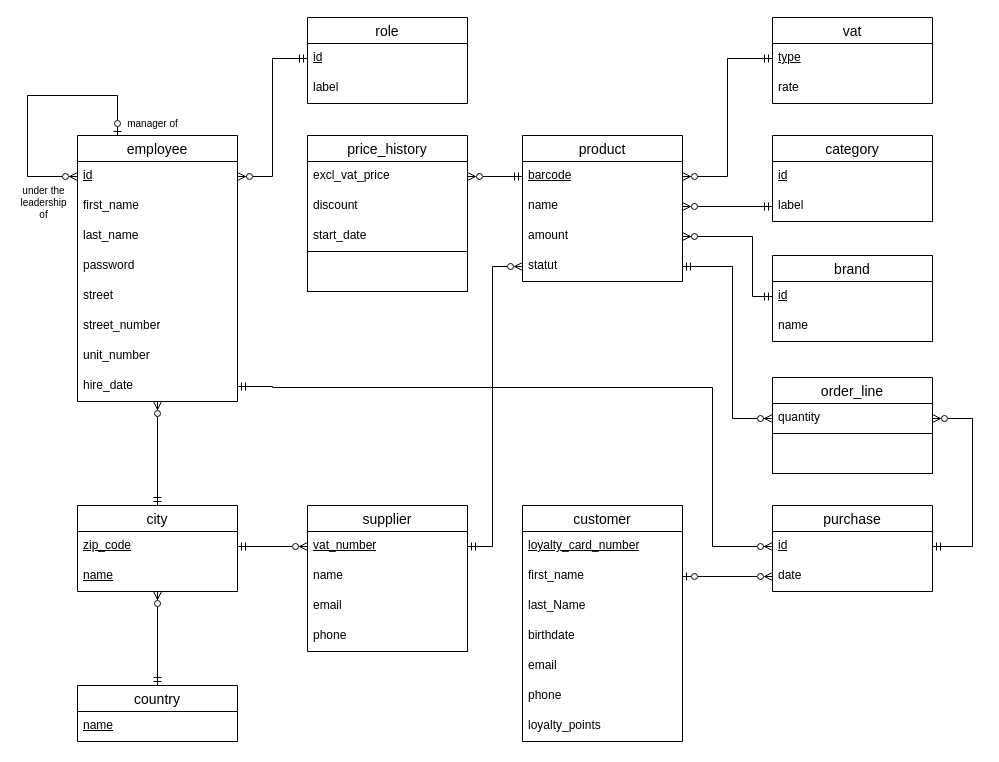
Some shapes in this 999 by 762 pixel diagram are drawn without their labels. The shapes that lost their labels are listed below. From the top down, each one's centre as x and y in pixels, then its label:
At point 387,271: "id (priceHistory) : product, start_date".
At point 852,453: "id (order_line) : purchase, product".
